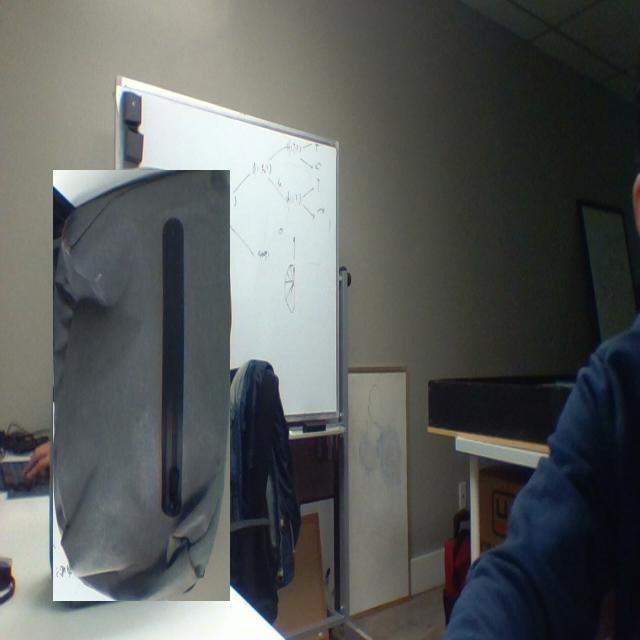Backpacks: (53, 170, 231, 602)
